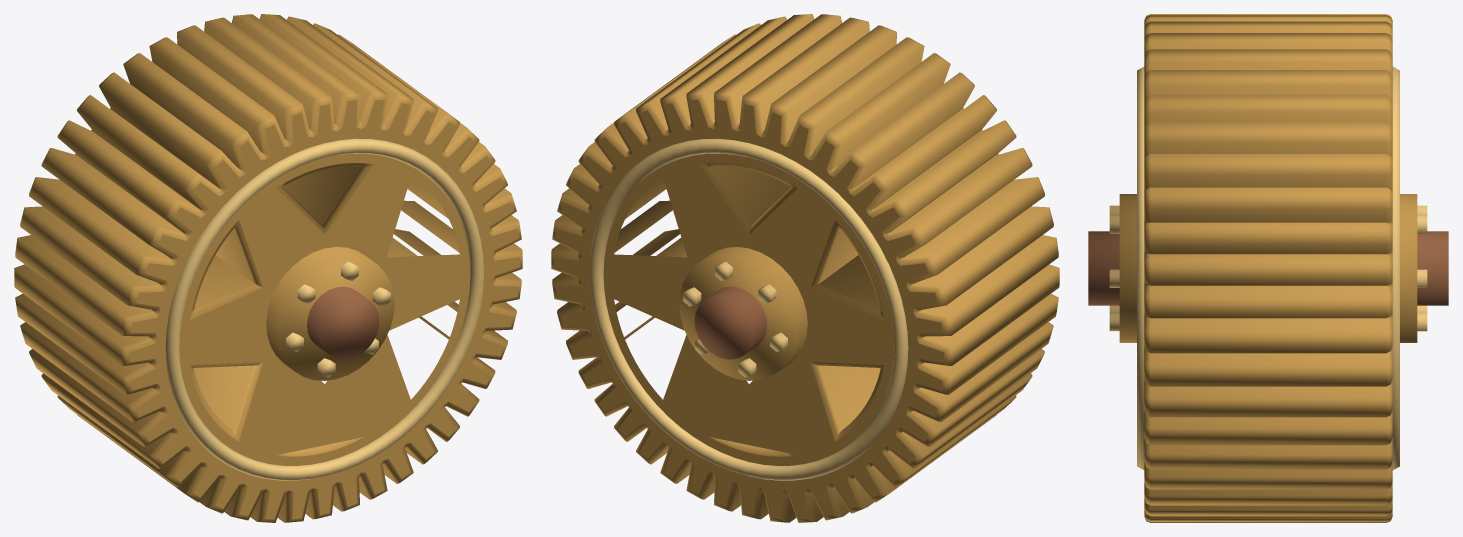
The model's file is gear-44.glb.
3 views of the same model, side by side, from view 1: azimuth 30°, elevation 25°; view 2: azimuth 150°, elevation 25°; view 3: azimuth 270°, elevation 25° (orthographic). The views are drawn at different scales.
Visible parts, largest first — view 1: gear; view 2: gear; view 3: gear.
Boxes of the visible parts, bbox=[...] form: gear: bbox=[14, 14, 522, 522]; gear: bbox=[551, 14, 1059, 522]; gear: bbox=[1088, 14, 1448, 522].
Bounding box in the file's own units: 2.05 × 2.05 × 1.45.
